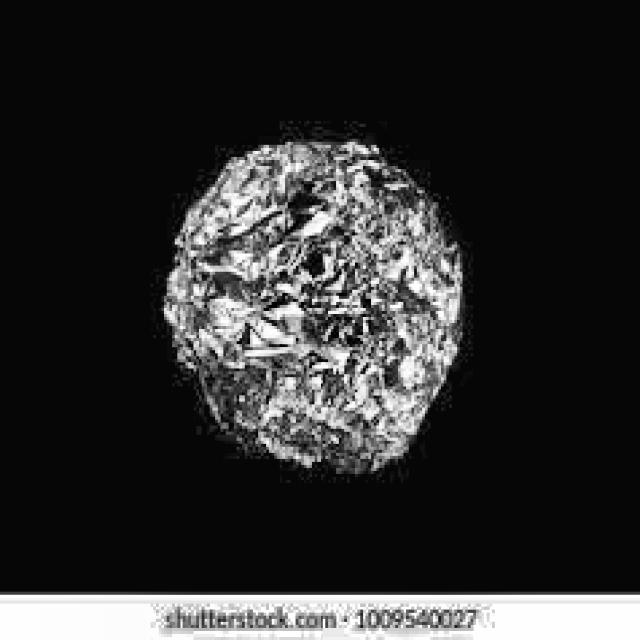Foil: (148, 118, 470, 488)
